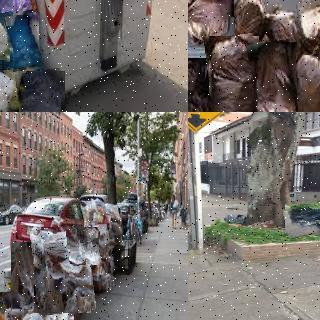Garbage: (32, 226, 94, 315), (11, 242, 74, 320), (206, 34, 261, 112), (250, 40, 299, 112), (188, 0, 234, 58), (1, 14, 41, 72), (17, 69, 67, 112), (261, 5, 302, 57), (227, 0, 270, 42), (294, 46, 320, 112), (188, 42, 209, 112), (0, 289, 43, 320), (283, 201, 320, 237), (81, 194, 110, 238), (69, 226, 100, 266), (298, 0, 320, 53), (0, 0, 31, 24), (0, 64, 14, 112), (0, 10, 11, 61)
